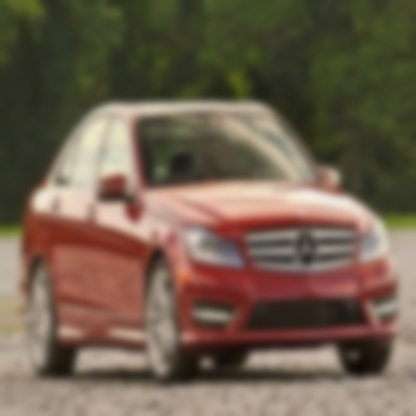Vehicle: (13, 57, 415, 393)
